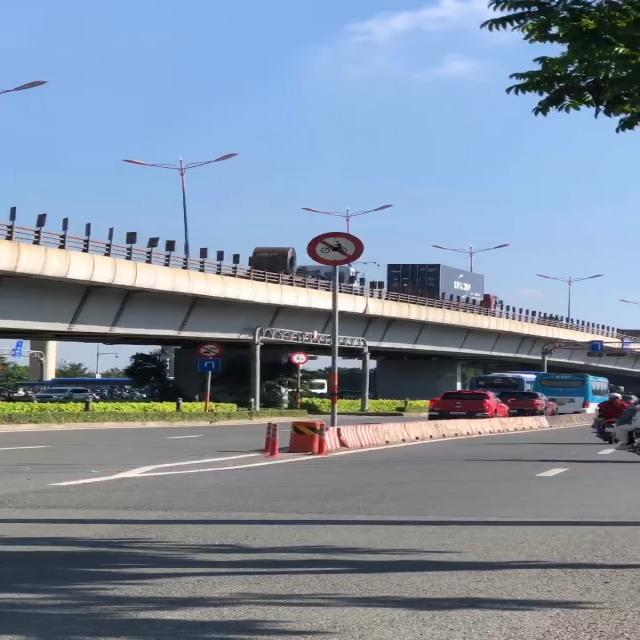Bien bao cam xe may: (306, 231, 366, 267)
Bien bao cam xe oto khach va xe oto tai: (195, 341, 224, 359)
